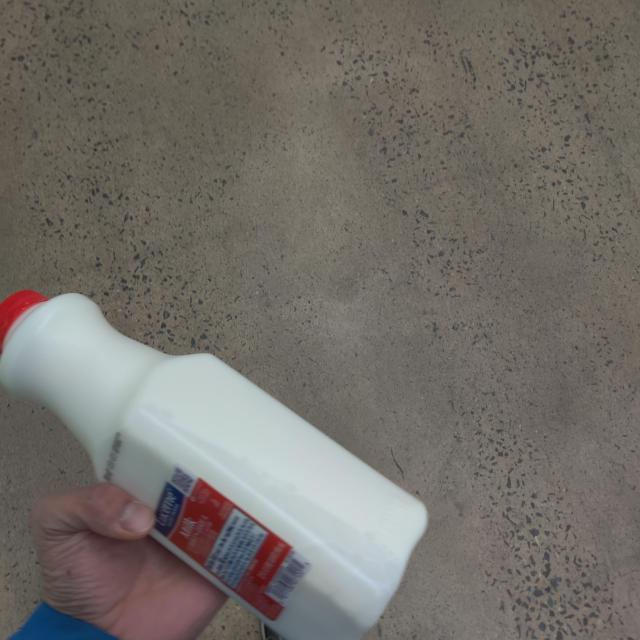milk: (0, 288, 427, 640)
